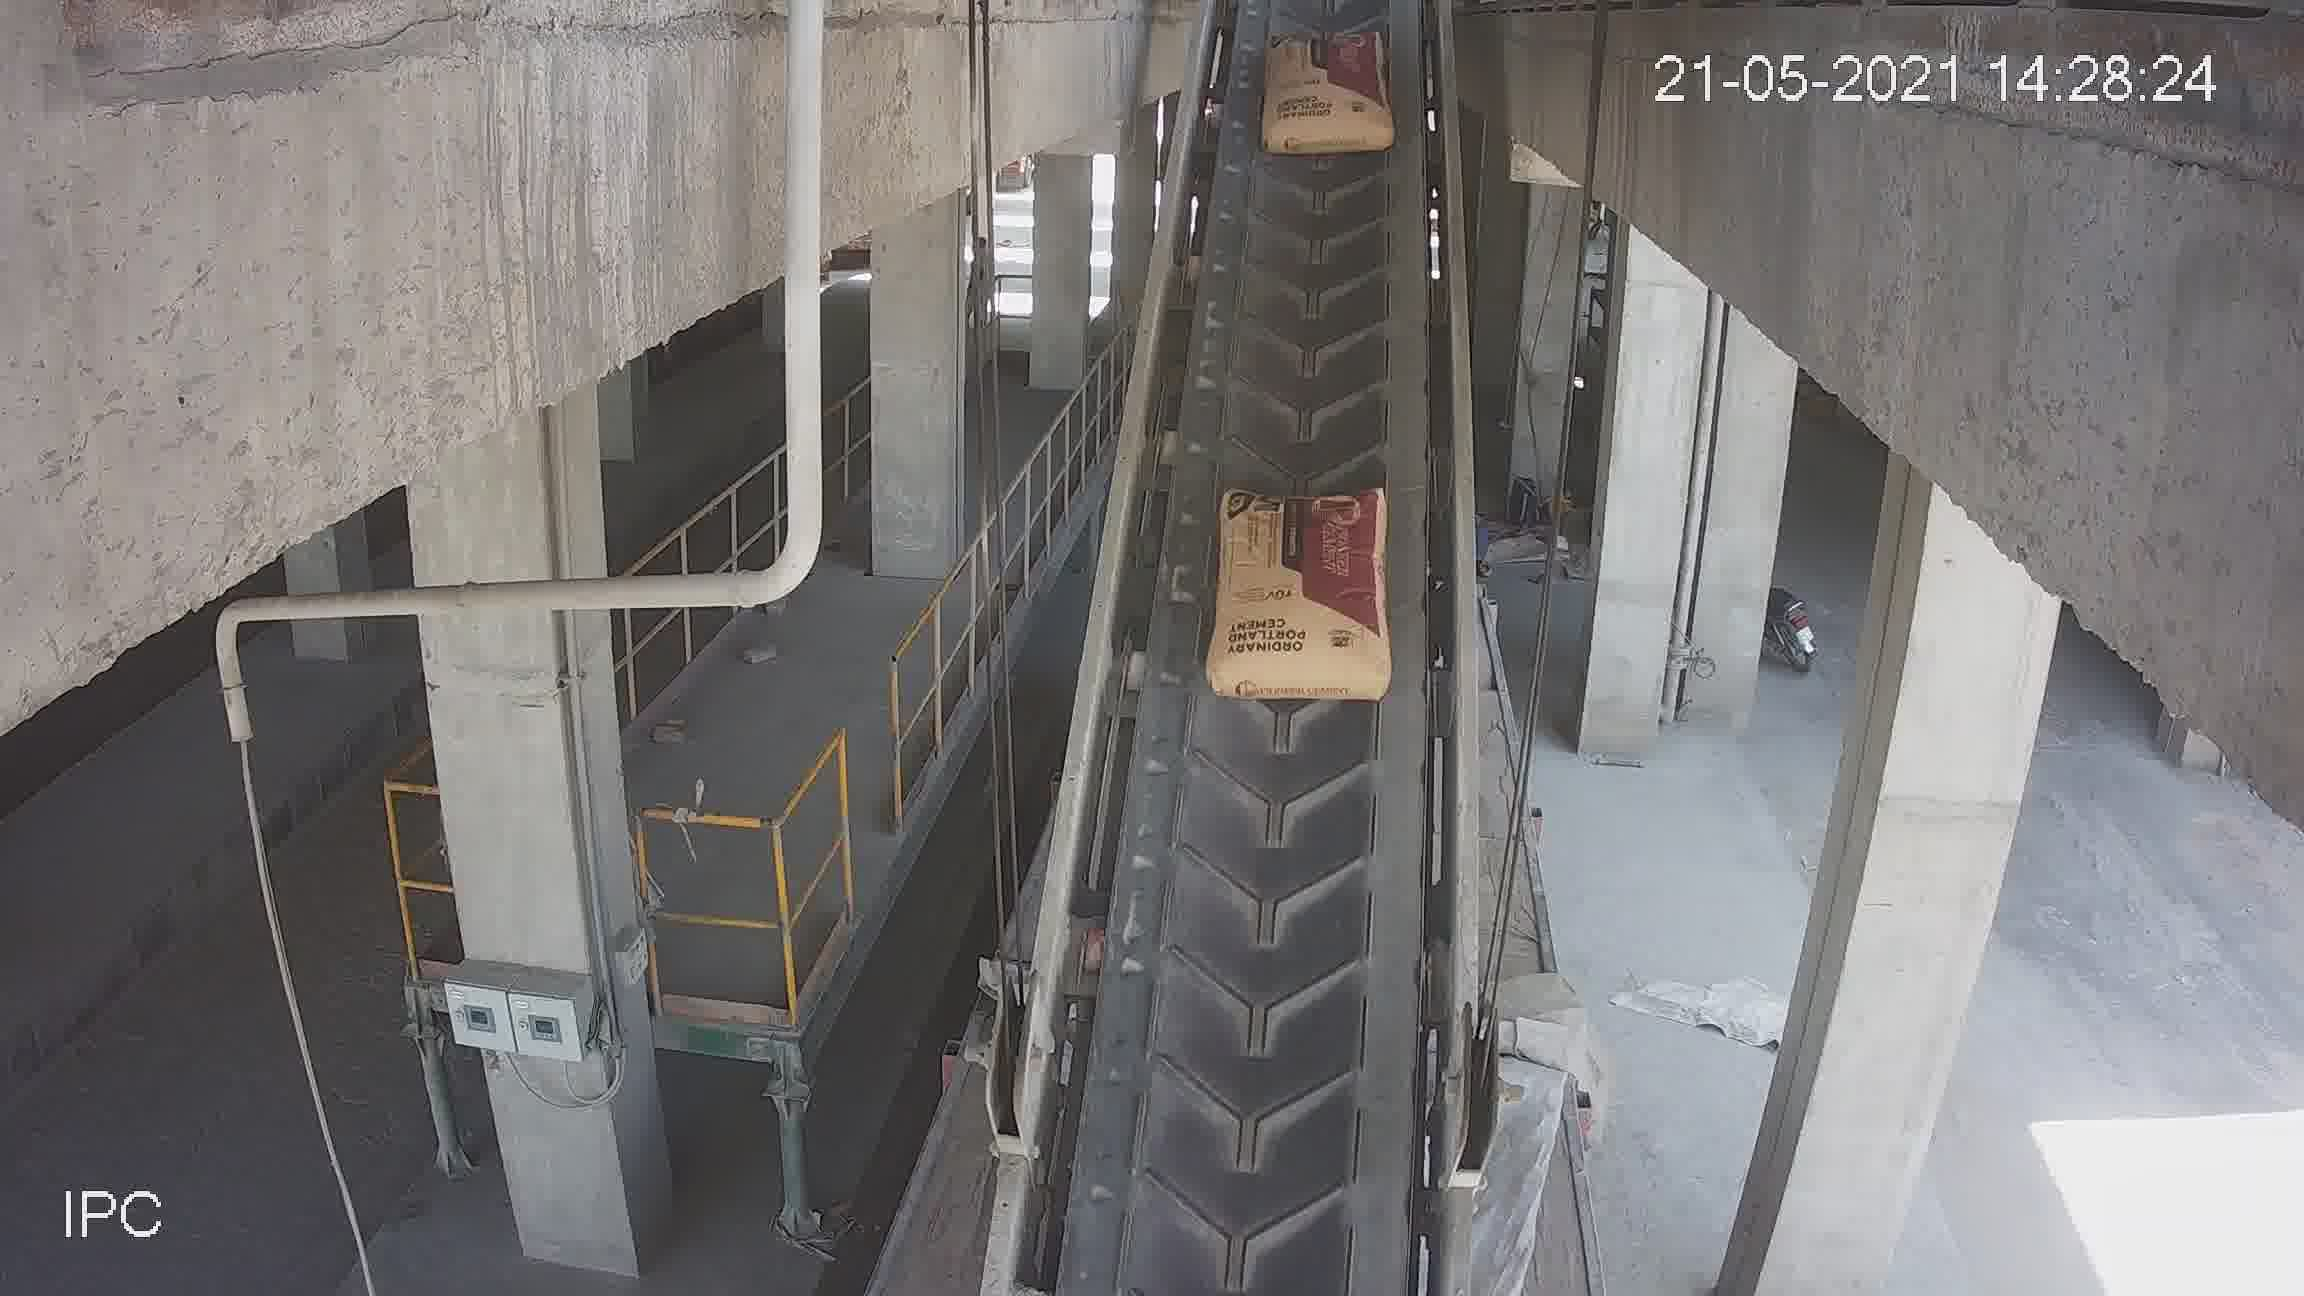bag: (1214, 491, 1381, 701), (1275, 36, 1381, 144)
belt: (1013, 47, 1480, 1296)
